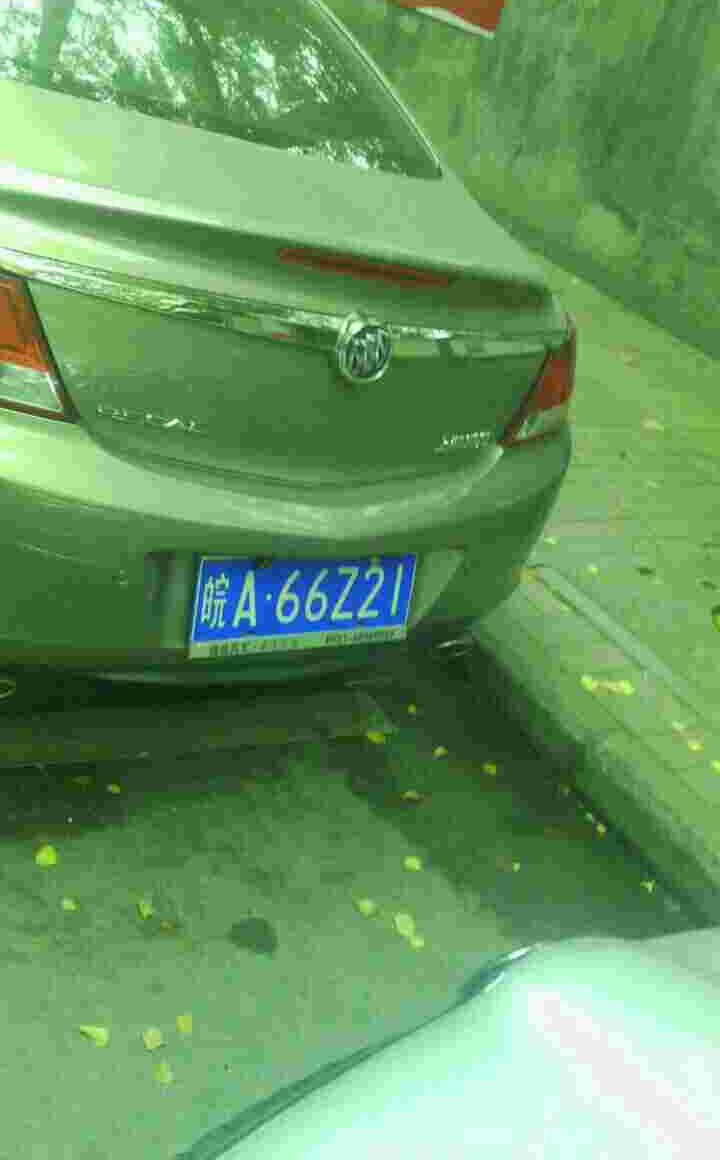plate: (197, 544, 429, 646)
